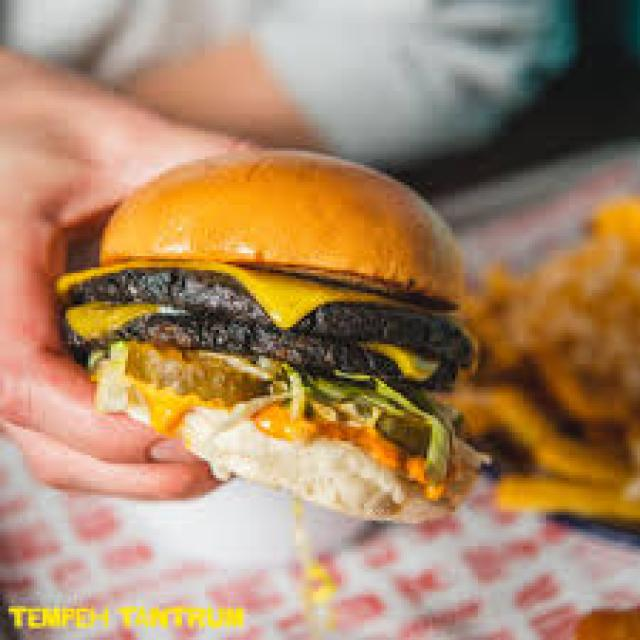햄버거: (51, 151, 486, 526)
